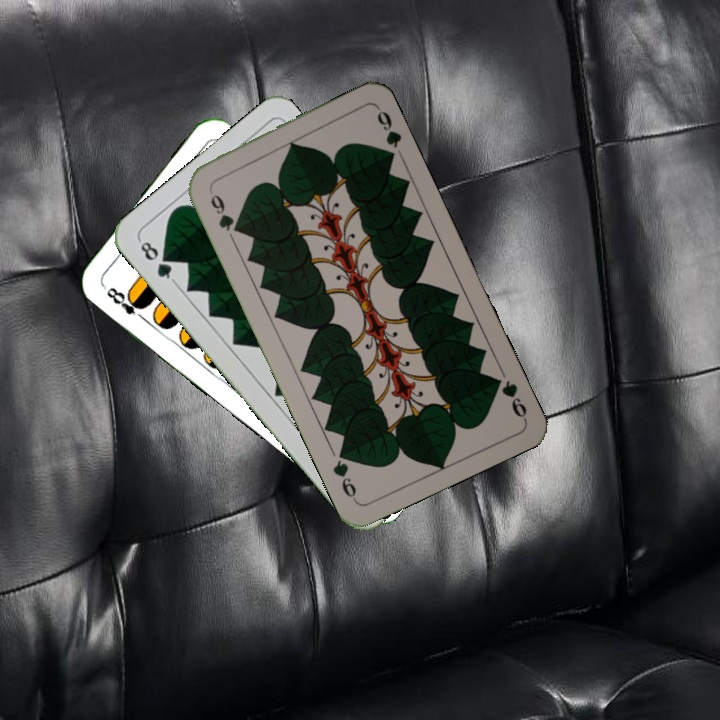E8: (100, 283, 150, 325)
G8: (136, 237, 178, 285)
G9: (487, 372, 529, 422), (204, 184, 243, 236)
